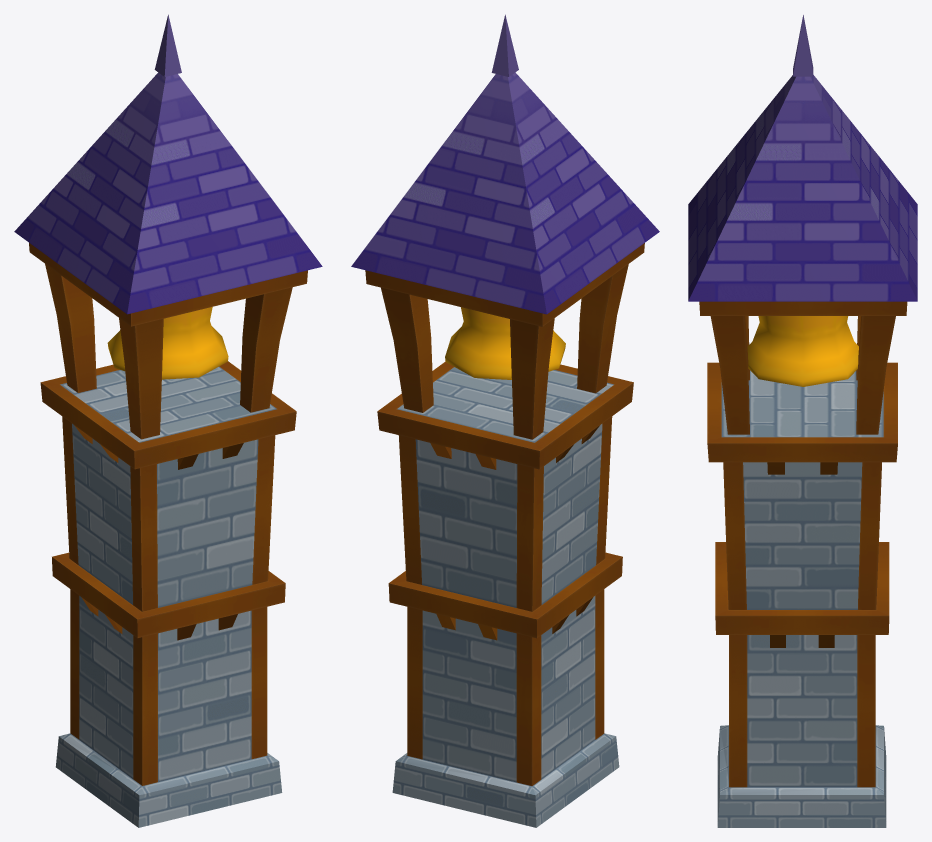
File: HOS0110025.fbx
3 views of the same model, side by side, from view 1: azimuth 30°, elevation 25°; view 2: azimuth 150°, elevation 25°; view 3: azimuth 270°, elevation 25° (orthographic).
Visible parts, largest first — view 1: smHOS0110025; view 2: smHOS0110025; view 3: smHOS0110025.
Boxes of the visible parts, bbox=[...] form: smHOS0110025: bbox=[14, 14, 322, 827]; smHOS0110025: bbox=[351, 14, 659, 827]; smHOS0110025: bbox=[688, 15, 917, 827].
Bounding box in the file's own units: 244 × 913 × 244.
Materials: 1 (1 with a texture image).
